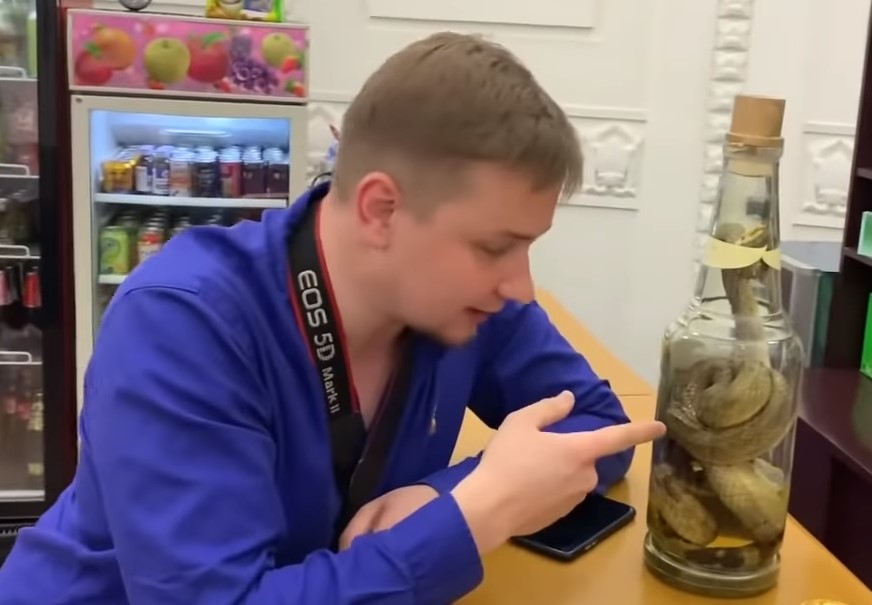face_no_mask: (336, 34, 568, 340)
